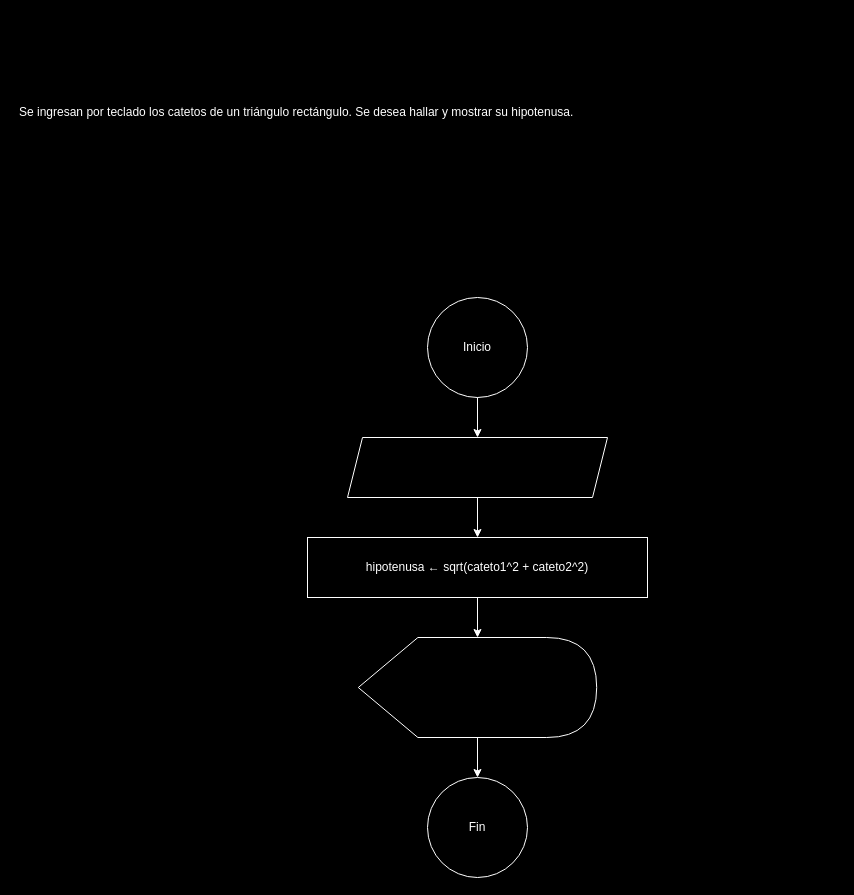
Some shapes in this 854 by 895 pixel diagram are drawn without their labels. The centre of each missing label's shape, as x and y in pixels:
Leer cateto1, cateto2: [477,467]
Mostrar hipotenusa: [477,687]
